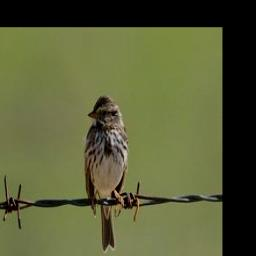Sparrow: (83, 93, 131, 251)
